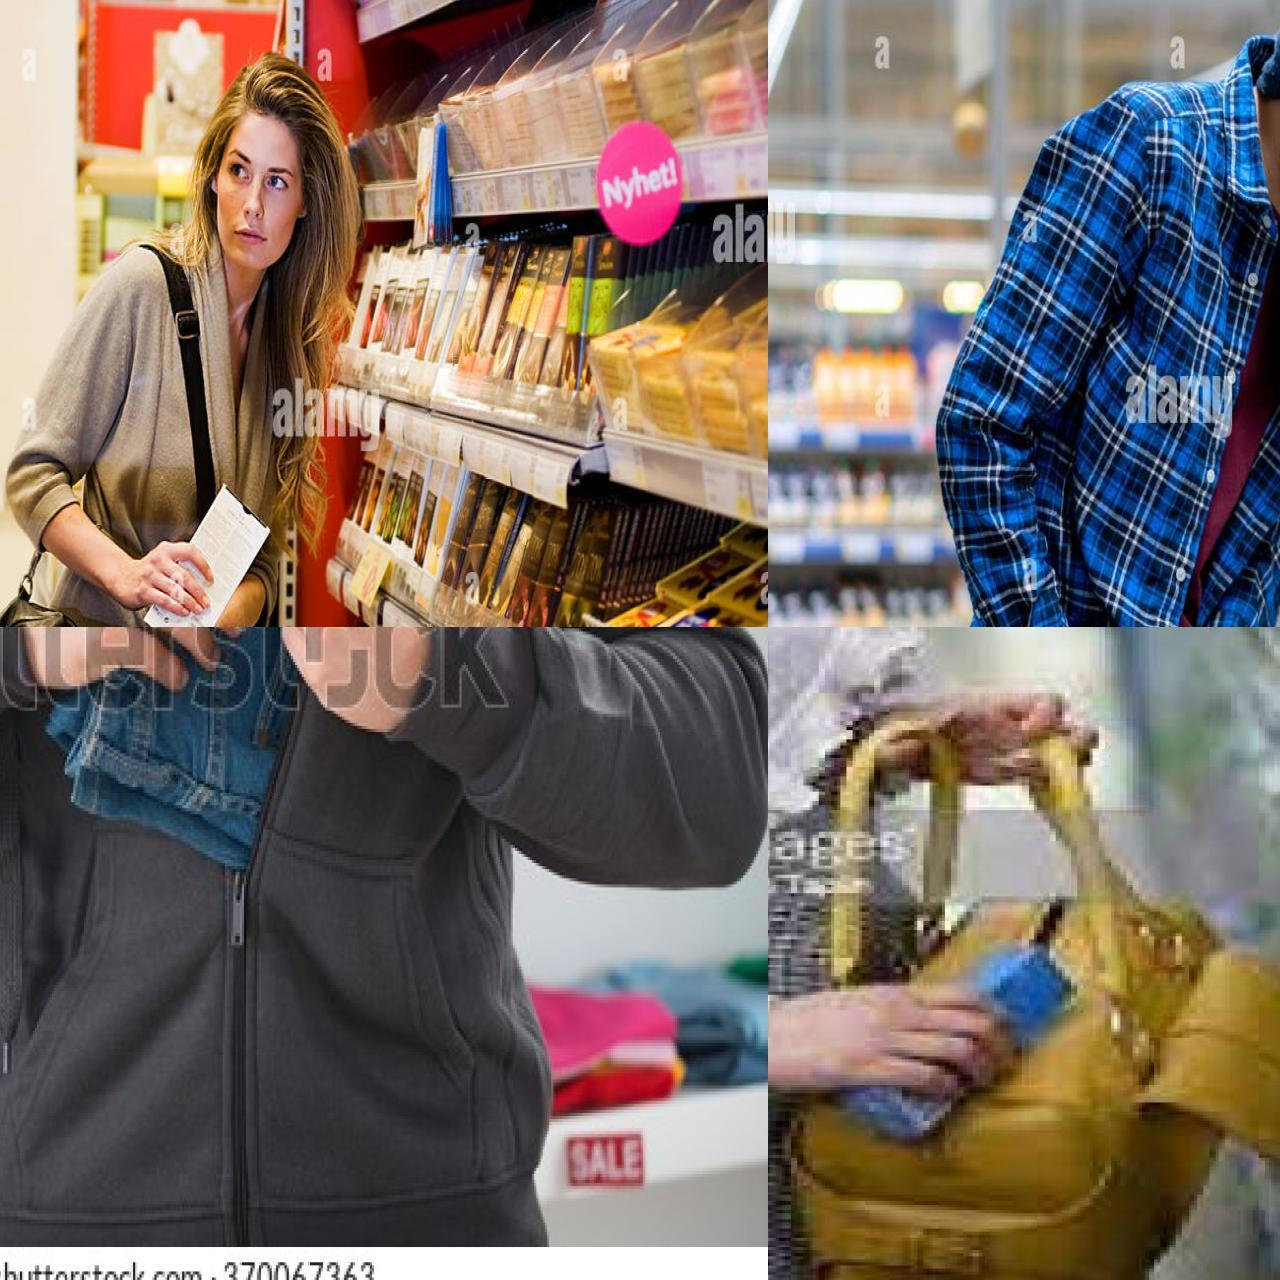Shoplifting: (4, 627, 624, 1235), (768, 636, 1280, 1177), (863, 0, 1280, 627), (0, 47, 447, 627)
